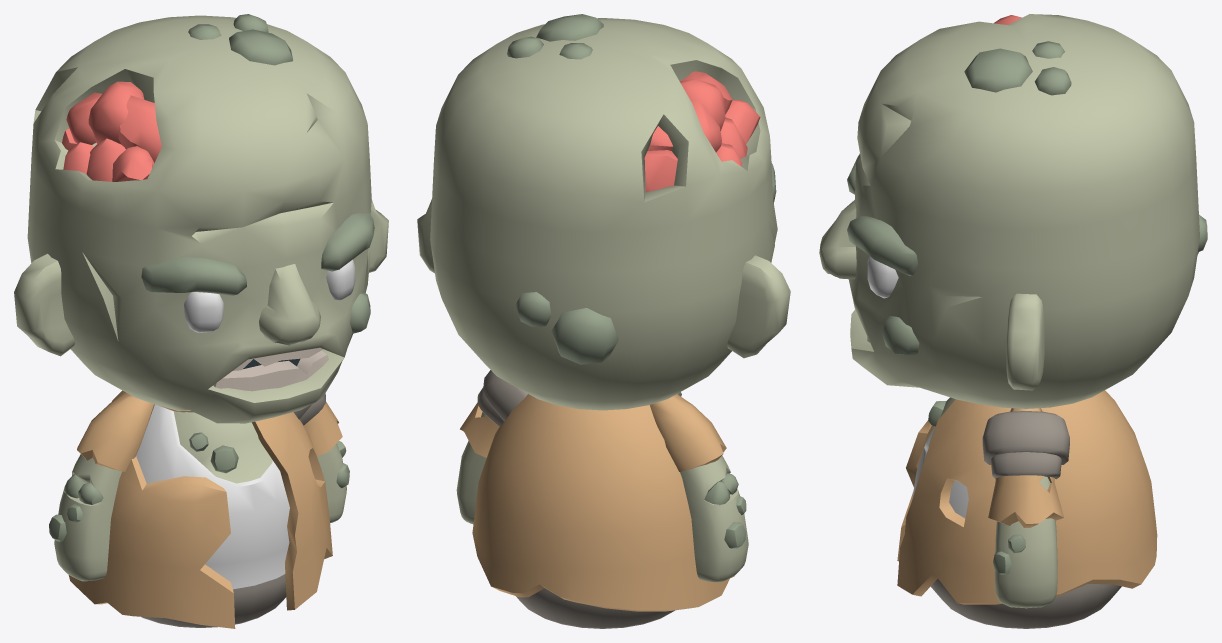
The model's file is character_zombieA.fbx.
3 renders of one model, left to right at view 1: azimuth 30°, elevation 25°; view 2: azimuth 150°, elevation 25°; view 3: azimuth 270°, elevation 25°, orthographic.
Visible parts, largest first — view 1: character_zombieA_head, character_zombieA_body, character_zombieA_armRight, character_zombieA_armLeft; view 2: character_zombieA_head, character_zombieA_body, character_zombieA_armRight, character_zombieA_armLeft; view 3: character_zombieA_head, character_zombieA_body, character_zombieA_armLeft.
Part boxes in pixels (box(x1,y1,x2,y2)): character_zombieA_head: box(14, 14, 388, 423); character_zombieA_body: box(68, 390, 332, 628); character_zombieA_armRight: box(49, 392, 154, 581); character_zombieA_armLeft: box(293, 393, 349, 522); character_zombieA_head: box(417, 14, 790, 410); character_zombieA_body: box(472, 392, 734, 628); character_zombieA_armRight: box(650, 394, 748, 582); character_zombieA_armLeft: box(456, 370, 527, 524); character_zombieA_head: box(819, 14, 1207, 408); character_zombieA_body: box(897, 390, 1157, 628); character_zombieA_armLeft: box(982, 408, 1069, 608).
Bounding box in the file's own units: 1.22 × 1.78 × 1.12.
